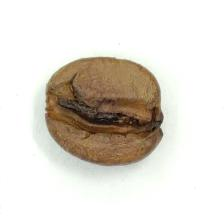NG: (57, 58, 156, 147)
